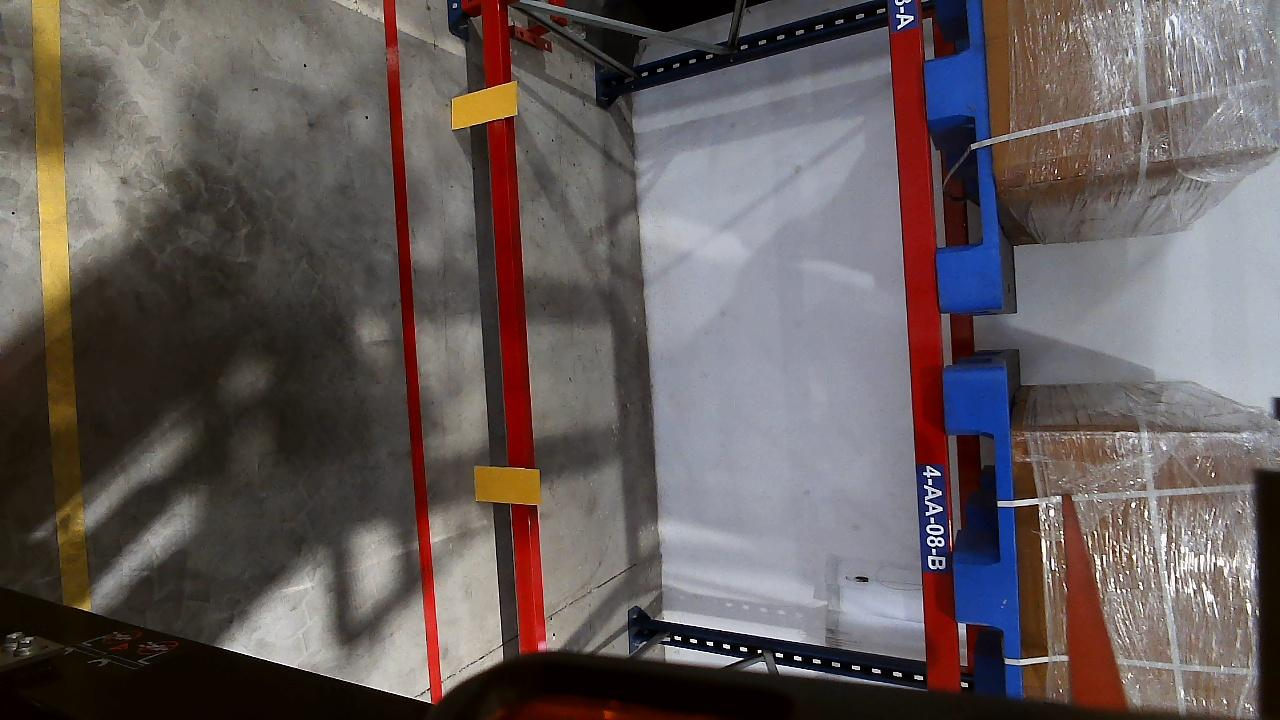h_rack: (880, 1, 954, 684), (477, 8, 555, 652)
orange_strip: (450, 82, 519, 129), (473, 466, 539, 505)
red_line: (381, 0, 444, 693)
small_pallet: (915, 0, 1008, 305), (944, 392, 1027, 694)
yellow_line: (27, 0, 85, 609)
